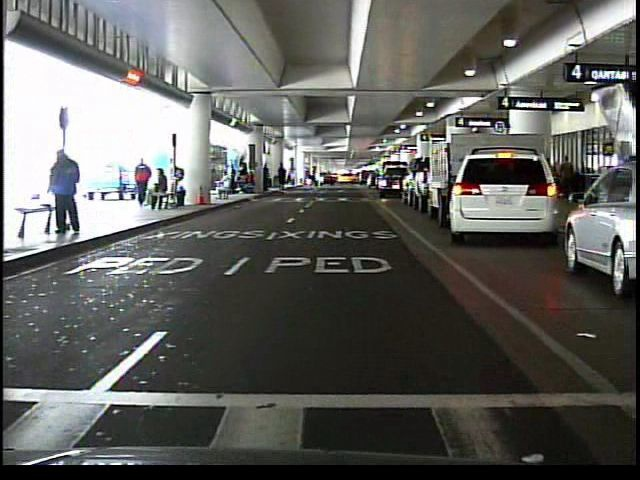person: (50, 144, 90, 236), (214, 170, 233, 205), (306, 163, 321, 192)
